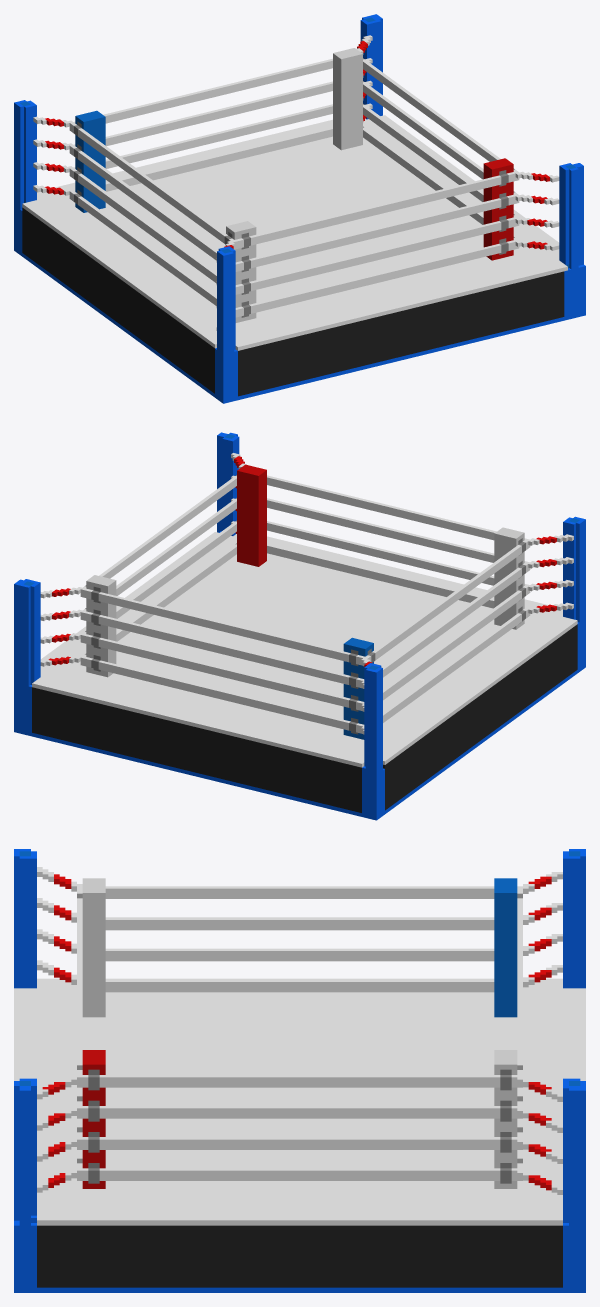
Rendered from RING.obj.
The picture shows the model from 3 angles, top to bottom: view 1: azimuth 30°, elevation 25°; view 2: azimuth 150°, elevation 25°; view 3: azimuth 270°, elevation 25°; orthographic projection. The views are drawn at different scales.
Size of the model in its own units: 10 by 3.9 by 10.
Materials: 1 (1 with a texture image).
